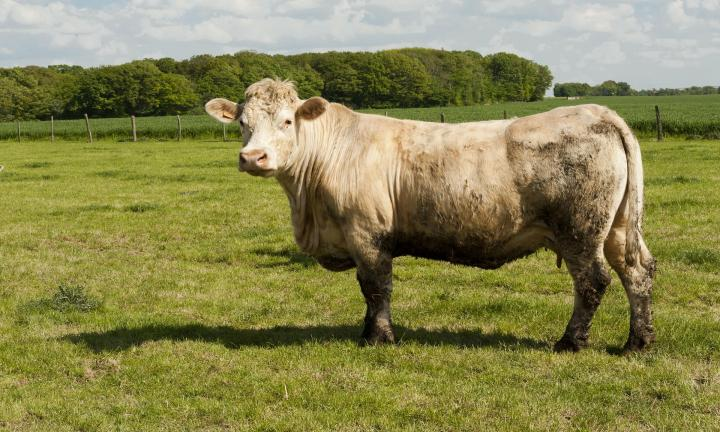cow: (206, 79, 655, 351)
